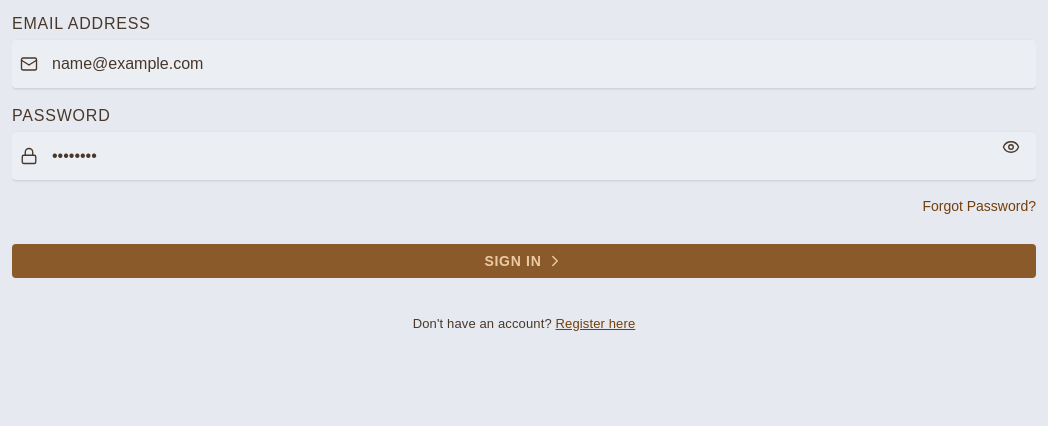
Scenario: LoginForm › rejects invalid email
Type "not-an-email" into the field labelled "Email Address" at (524, 64), box [12,40,1036,88]
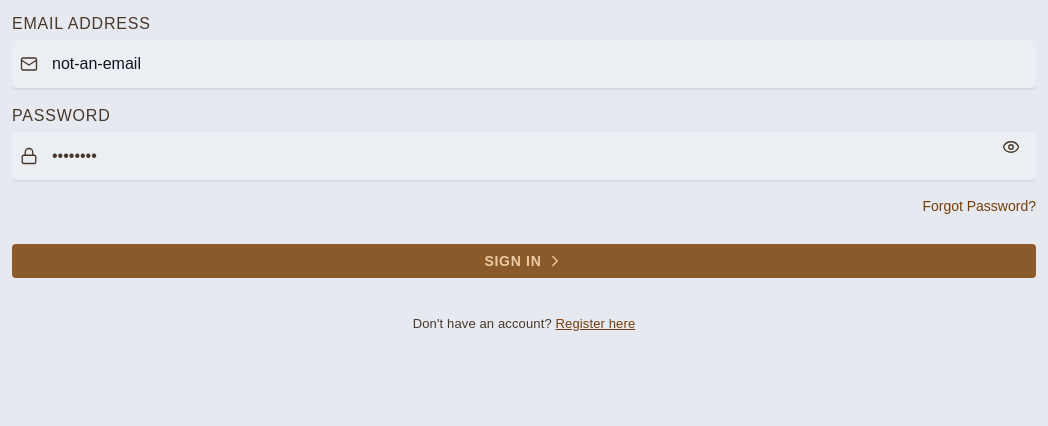
Type "Password123!" into the password field labelled "Password" at (524, 156), box [12,132,1036,180]
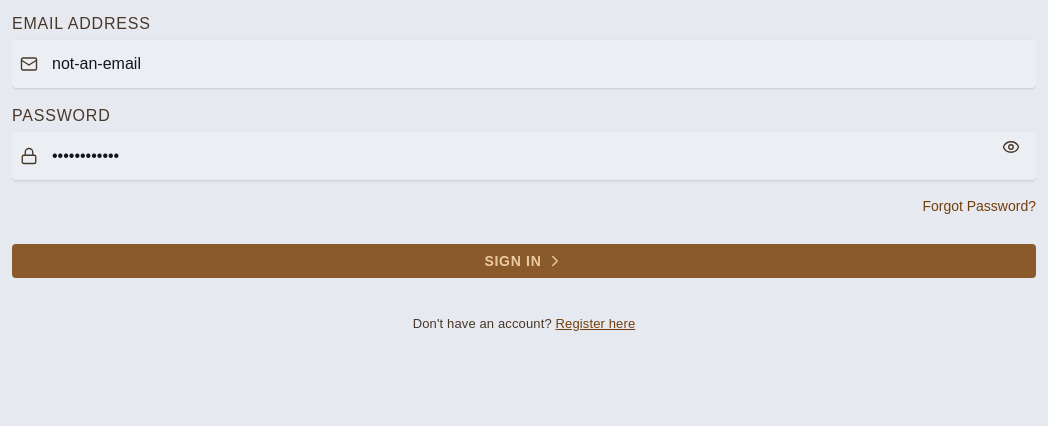
Click the button "Sign In" at (524, 261), box [12,244,1036,278]
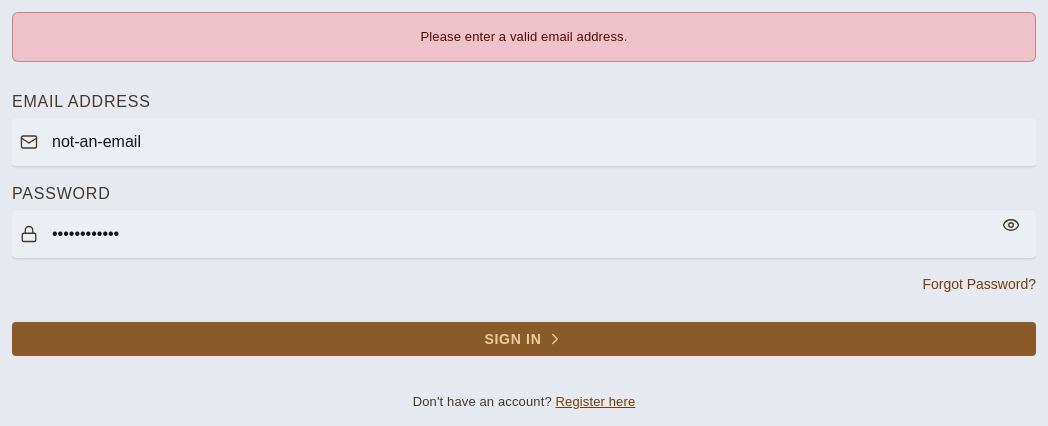
Check: the message shows "valid email", box [420,29,627,44]
